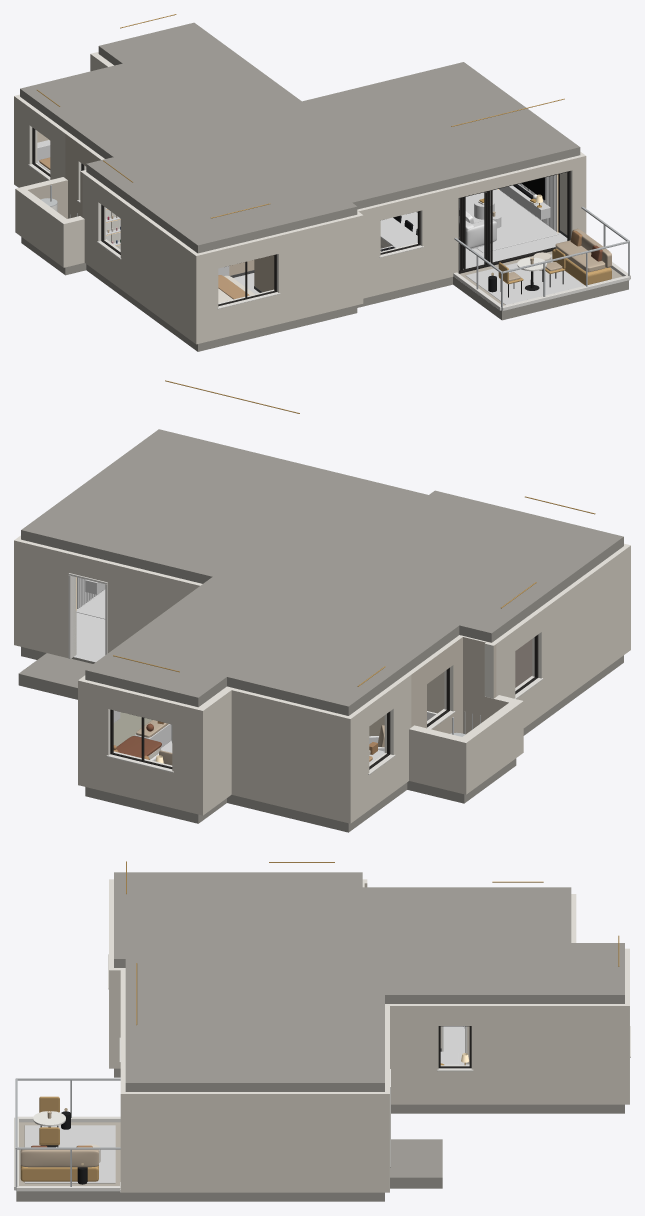
Rendered from static.glb.
3 renders of one model, top to bottom at view 1: azimuth 30°, elevation 25°; view 2: azimuth 150°, elevation 25°; view 3: azimuth 270°, elevation 25°, orthographic. The views are drawn at different scales.
Visible parts, largest first — view 1: chunk_ceil, chunk_living, chunk_master, chunk_balc, chunk_ensuite, chunk_svc, chunk_flex, chunk_nail, chunk_ext; view 2: chunk_ceil, chunk_nail, chunk_living, chunk_baby, chunk_svc, chunk_master, chunk_ext, chunk_flex, chunk_bath; view 3: chunk_ceil, chunk_living, chunk_baby, chunk_balc, chunk_hall, chunk_ext, chunk_ensuite, chunk_nail.
Part boxes in pixels (x1,y1,x2,y2): chunk_ceil: (20, 22, 580, 253); chunk_living: (357, 98, 585, 307); chunk_master: (136, 203, 357, 351); chunk_balc: (453, 152, 630, 320); chunk_ensuite: (254, 211, 363, 327); chunk_svc: (17, 132, 119, 275); chunk_flex: (82, 160, 254, 309); chunk_nail: (16, 89, 68, 187); chunk_ext: (14, 52, 200, 344); chunk_ceil: (21, 429, 623, 715); chunk_nail: (227, 666, 411, 832); chunk_living: (14, 380, 299, 663); chunk_baby: (78, 655, 226, 823); chunk_svc: (407, 635, 523, 803); chunk_master: (525, 496, 630, 712); chunk_ext: (14, 539, 515, 823); chunk_flex: (493, 582, 559, 735); chunk_bath: (369, 672, 444, 736); chunk_ceil: (114, 872, 624, 1091); chunk_living: (119, 963, 390, 1201); chunk_baby: (479, 935, 630, 1113); chunk_balc: (14, 1024, 130, 1201); chunk_hall: (390, 1004, 481, 1113); chunk_ext: (109, 879, 629, 1192); chunk_ensuite: (109, 934, 125, 1077); chunk_nail: (443, 881, 576, 1050).
Size of the model in its own units: 12.96 by 4.58 by 14.93.
